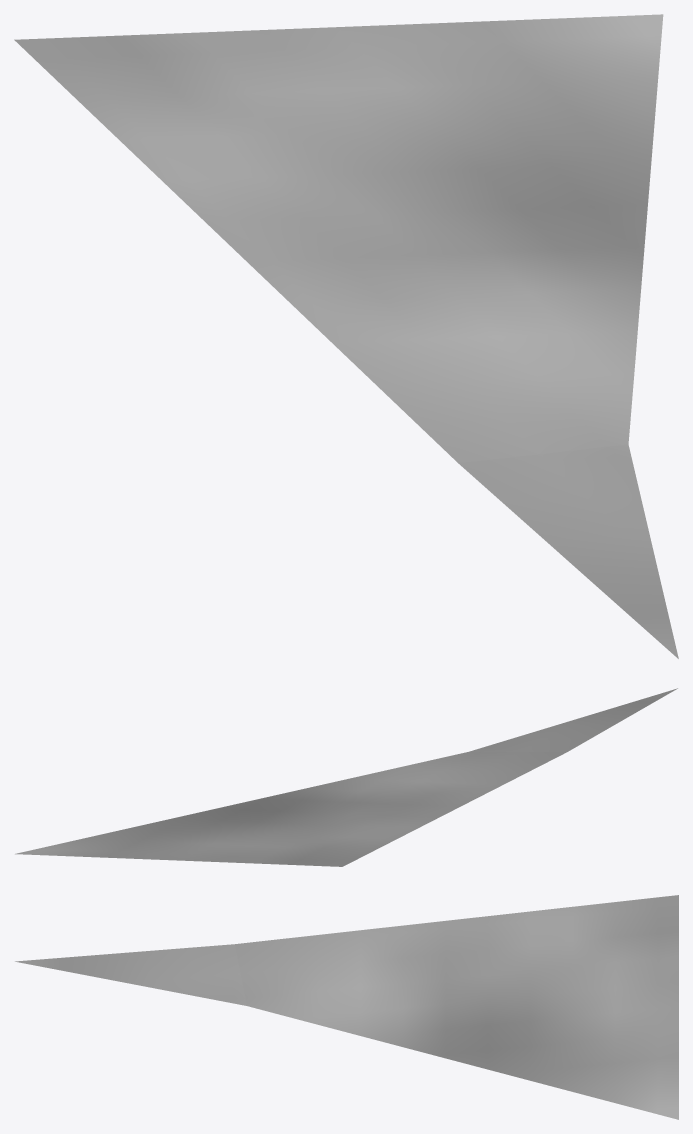
3 views of the same model, one above another, from view 1: azimuth 30°, elevation 25°; view 2: azimuth 150°, elevation 25°; view 3: azimuth 270°, elevation 25° (orthographic). The views are drawn at different scales.
Size of the model in its own units: 0.0563 by 0.011 by 0.0999.
1 material, 1 textured.
